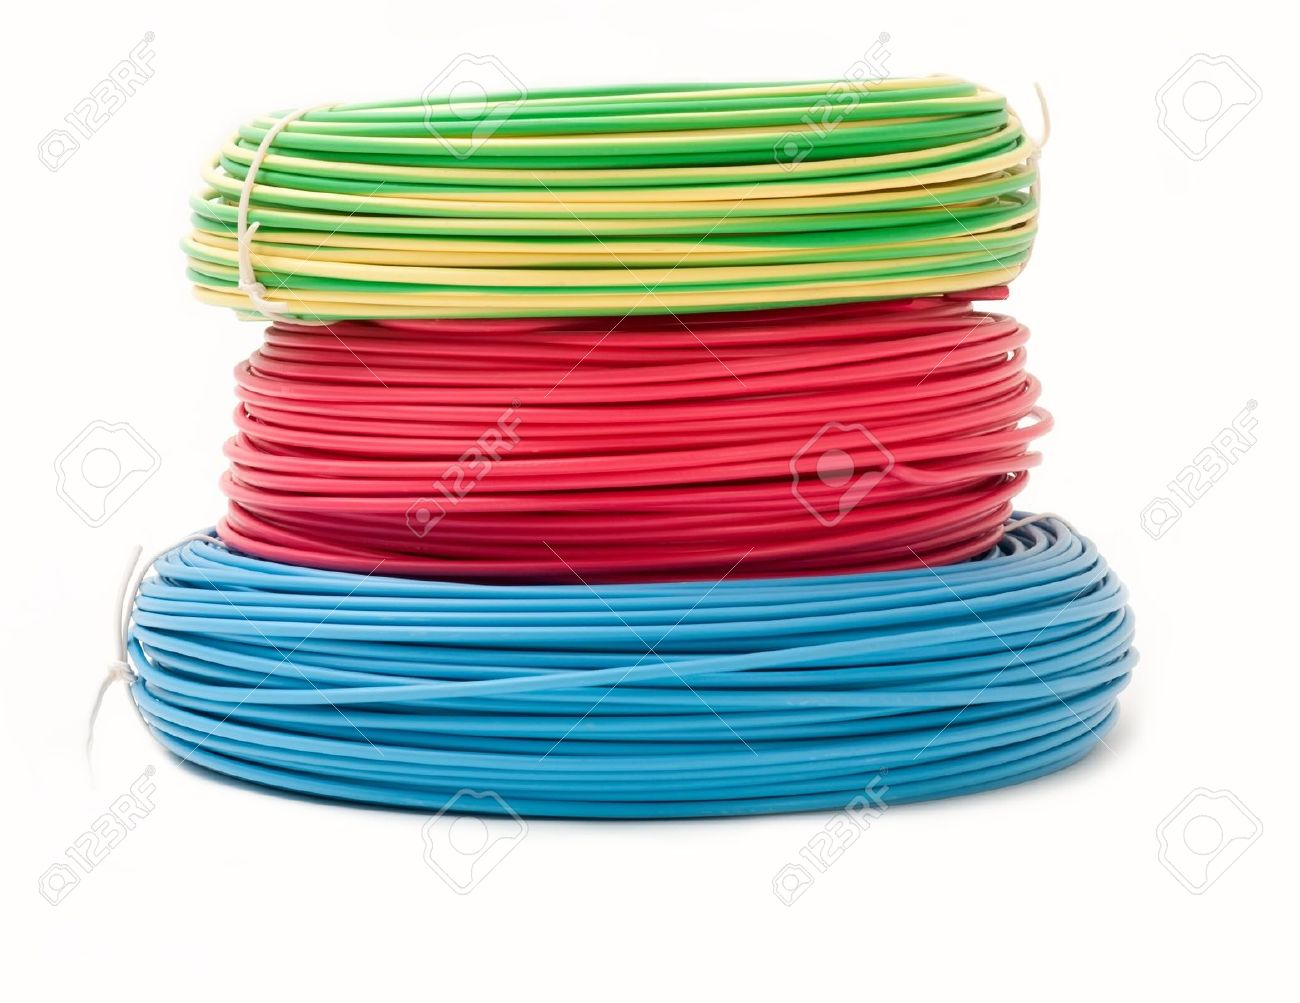Nonrec_Tangler: (59, 31, 1193, 837)
